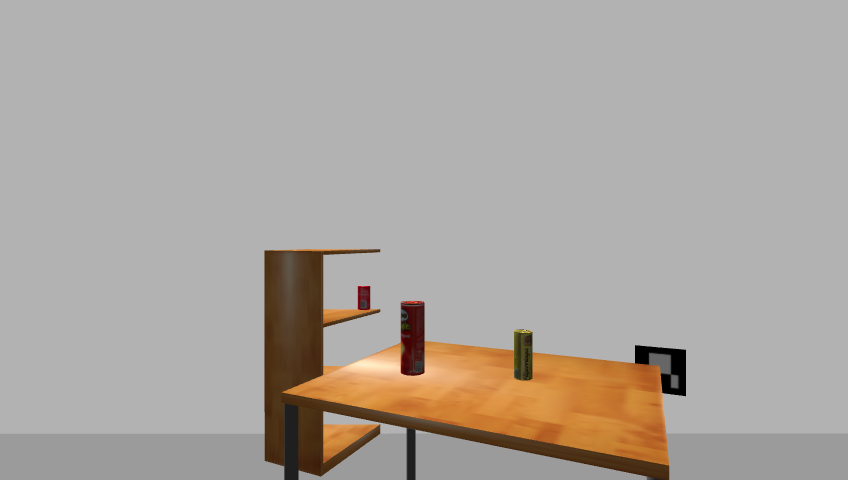aruco marker: (630, 344, 691, 398)
biscuits pack: (512, 329, 534, 382)
bookshelf: (260, 245, 382, 479)
coke can: (355, 285, 372, 311)
dinner table: (276, 339, 678, 480)
pringles can: (397, 301, 427, 378)
